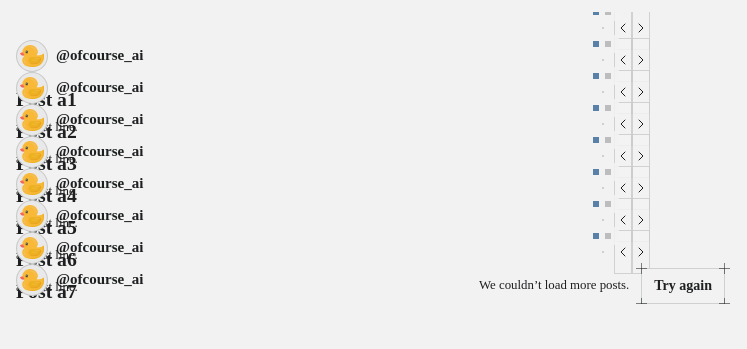
FeedList: the infinite scroll › shows a line with Try again when a page fails, which asks for the same page again
What coordinates should you click on to do the following:
click the button "Try again"
I would click on:
 (683, 286)
Its box is [641,268,725,304].
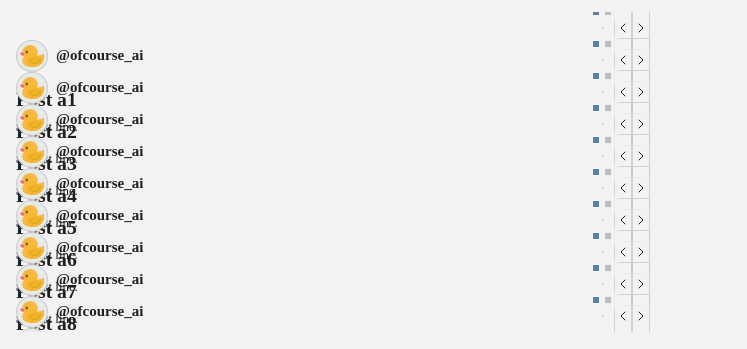
Expected: the button "Try again" is gone
